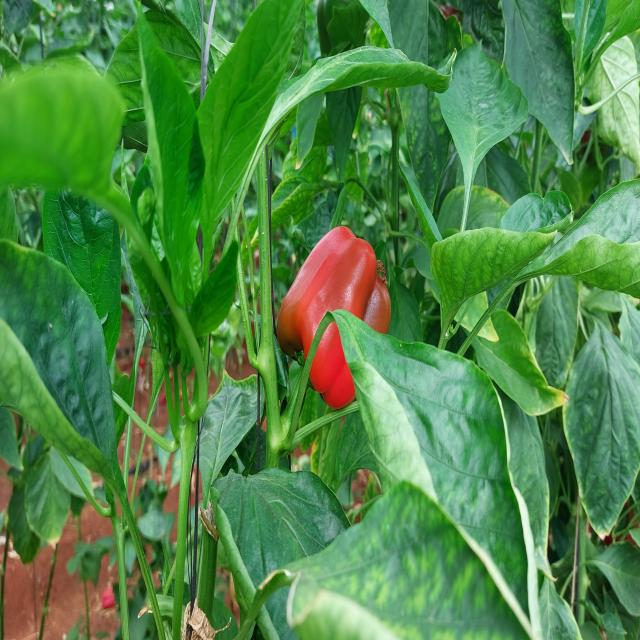Red-Ready-to-Harvest: (264, 214, 402, 418)
